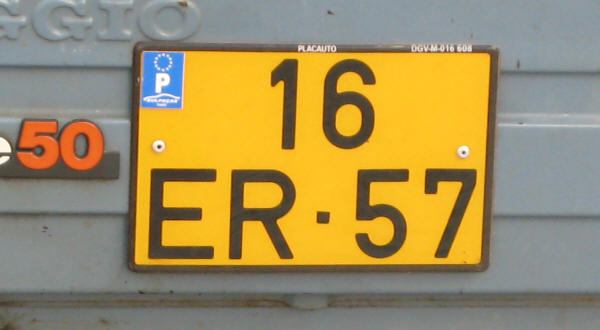license_plate: (129, 44, 500, 274)
